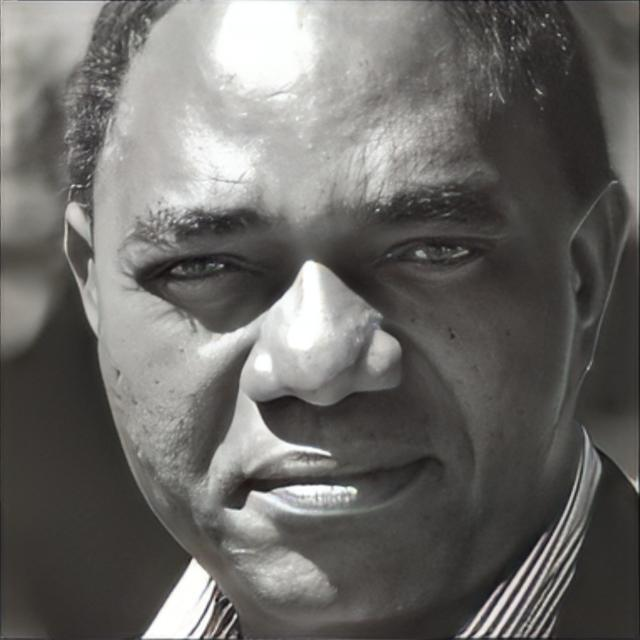disgust: (94, 0, 569, 629)
